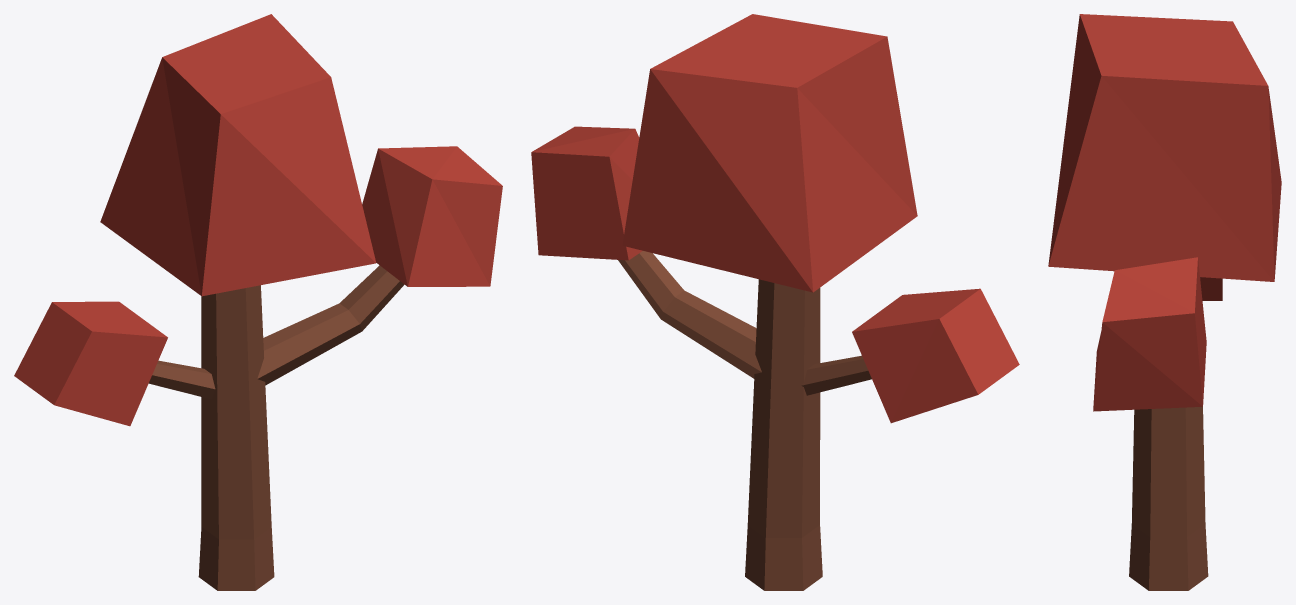
File: Tree_44_summer_red_vc.fbx
3 renders of one model, left to right at view 1: azimuth 30°, elevation 25°; view 2: azimuth 150°, elevation 25°; view 3: azimuth 270°, elevation 25°, orthographic. The views are drawn at different scales.
Parts seen in each view (by area): view 1: Tree_44_summer_red_vc; view 2: Tree_44_summer_red_vc; view 3: Tree_44_summer_red_vc.
Boxes of the visible parts, <box> form: Tree_44_summer_red_vc: <box>14,14,502,590</box>; Tree_44_summer_red_vc: <box>531,14,1019,590</box>; Tree_44_summer_red_vc: <box>1048,14,1281,590</box>.
Bounding box in the file's own units: 162 × 179 × 70.99.
